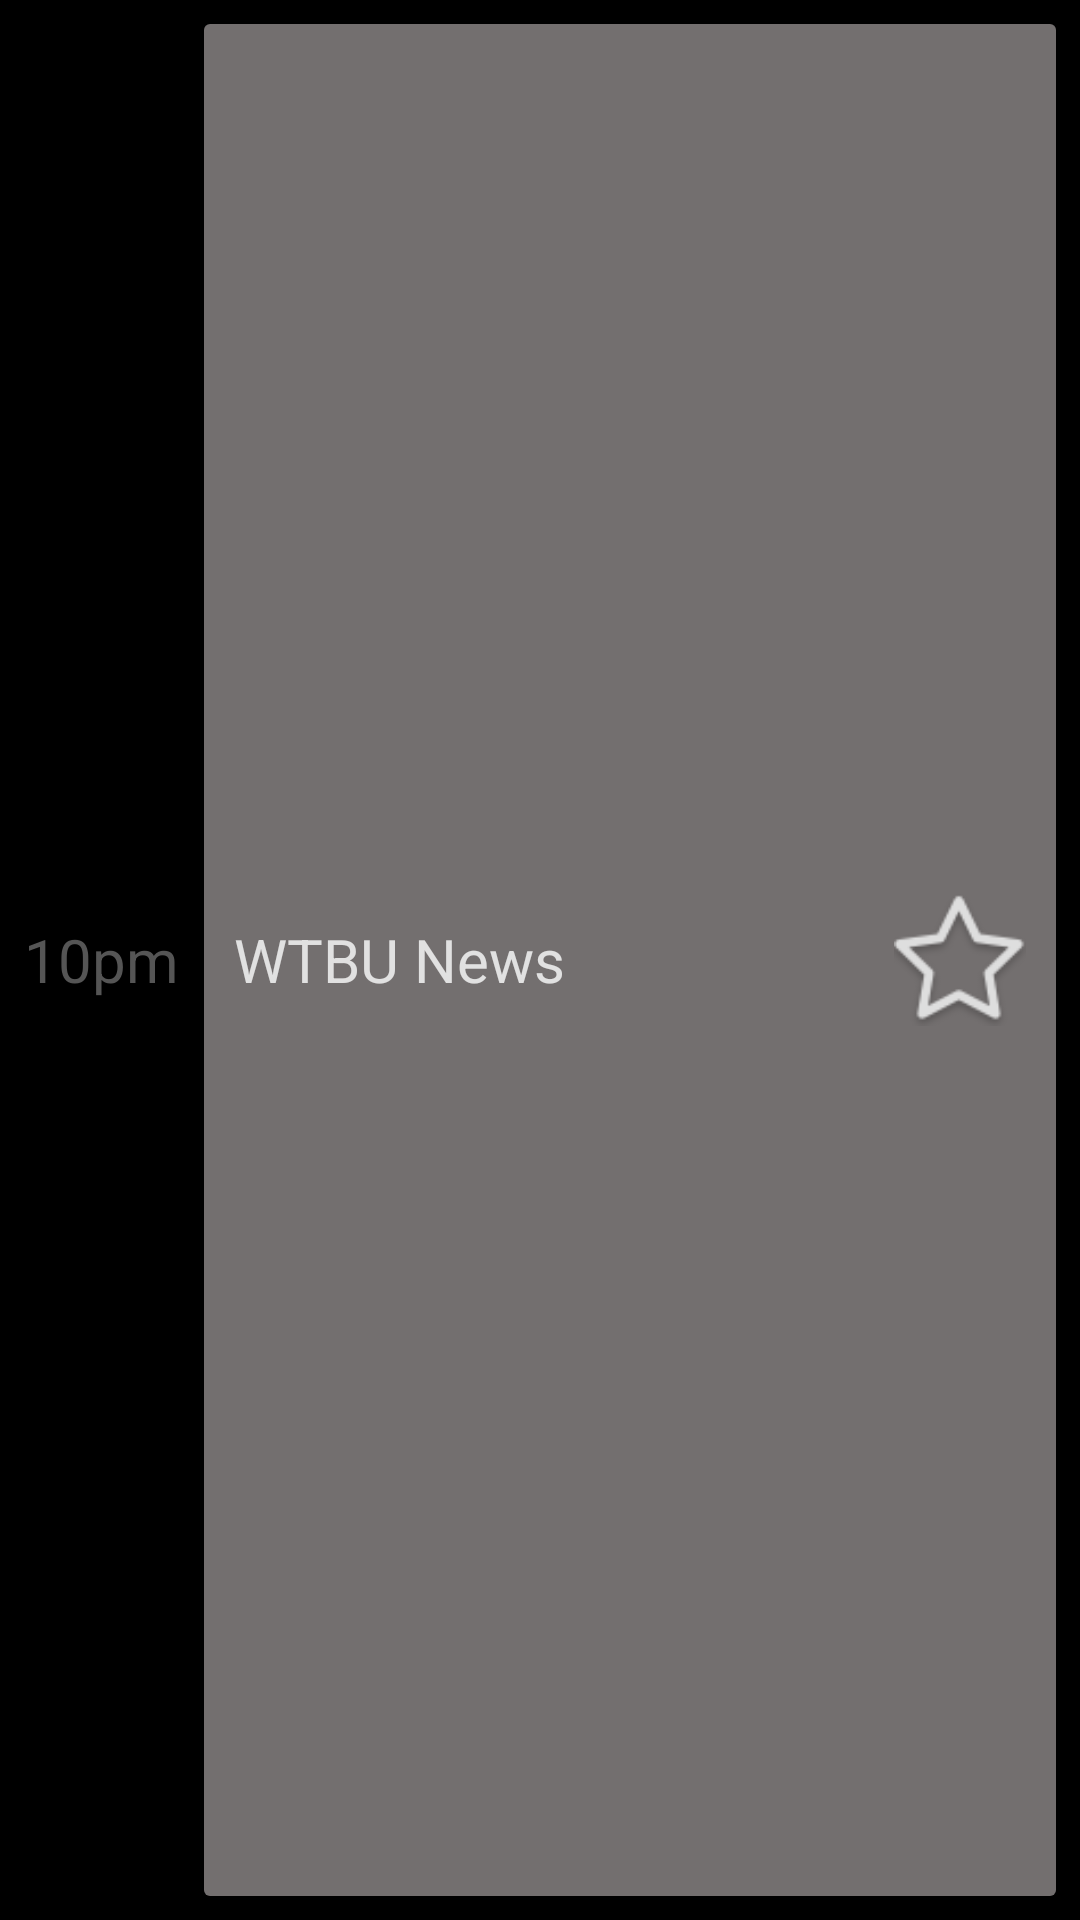

Named icons in this screenshot (1080x1920) and their bounding boxes, (x1, y1, x2, y2):
star empty: (894, 896, 1024, 1019)
